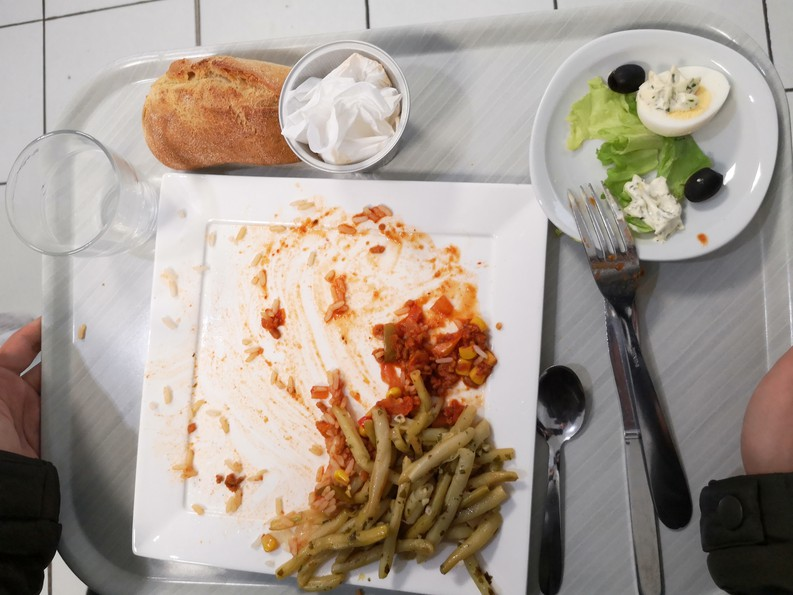cup: (4, 121, 162, 267)
cutlery: (562, 183, 702, 595), (536, 356, 587, 595)
orga: (315, 377, 514, 574), (580, 67, 729, 226), (140, 59, 285, 159), (377, 301, 492, 404)
trash: (285, 56, 417, 163)
